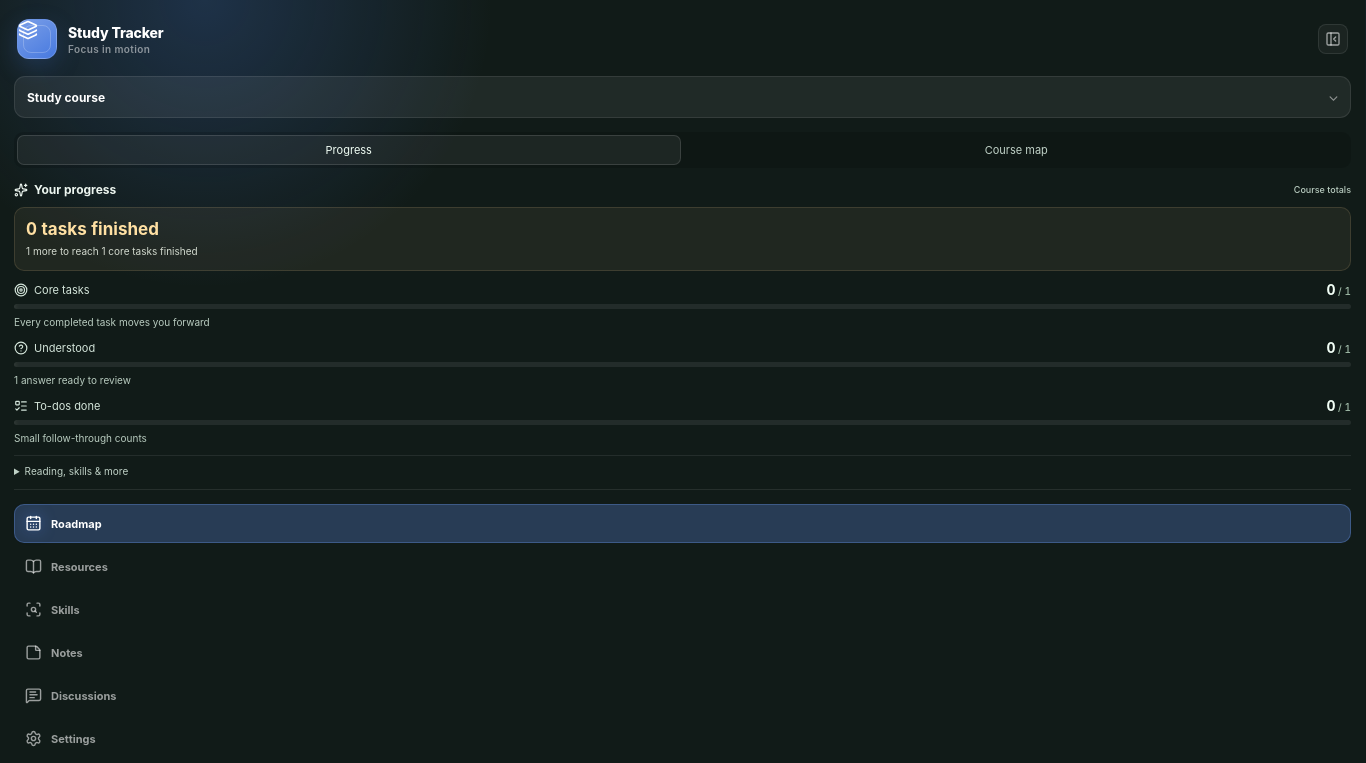
switches between totals and the course map and remembers the chosen summary
Expected: the element named "Course achievements" is shown, top-left (14, 182), bottom-right (1351, 490)
What coordinates should you click on to do the following:
click the button "Course map"
I would click on:
 (1016, 150)
Its box is top-left (684, 135), bottom-right (1348, 165).
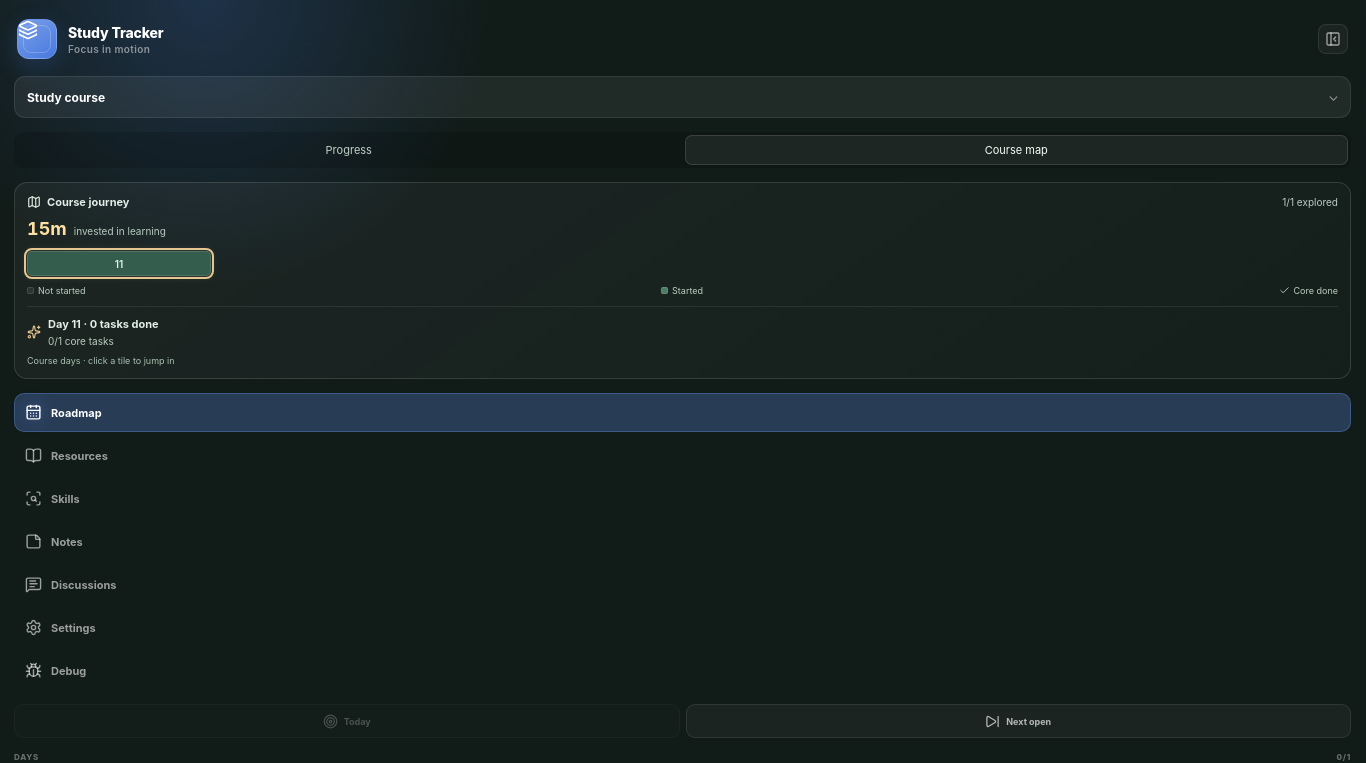
Now the element named "Course journey" is shown, box top-left (14, 182), bottom-right (1351, 379)
